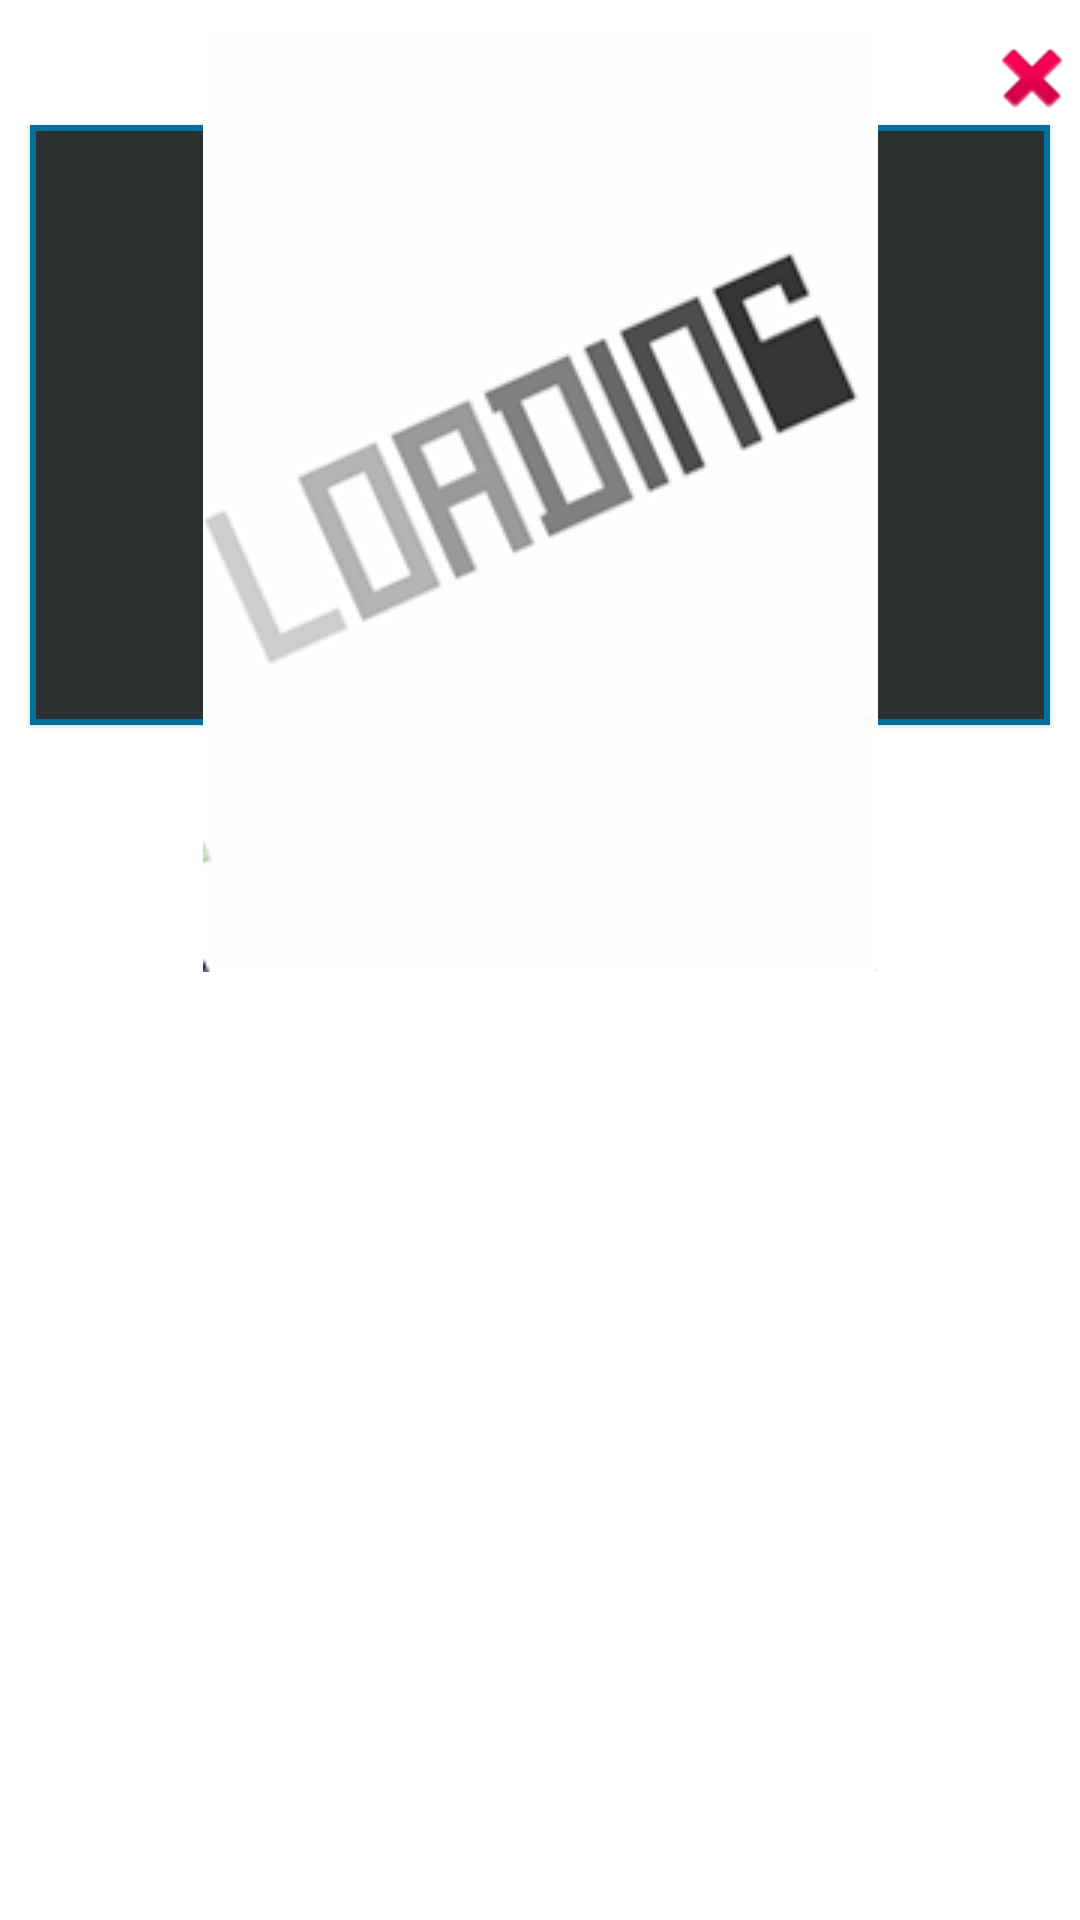

Icons on this 1080x1920 Android screen, each with its box as (x1, y1, x2, y2):
delete: (1001, 49, 1063, 108)
